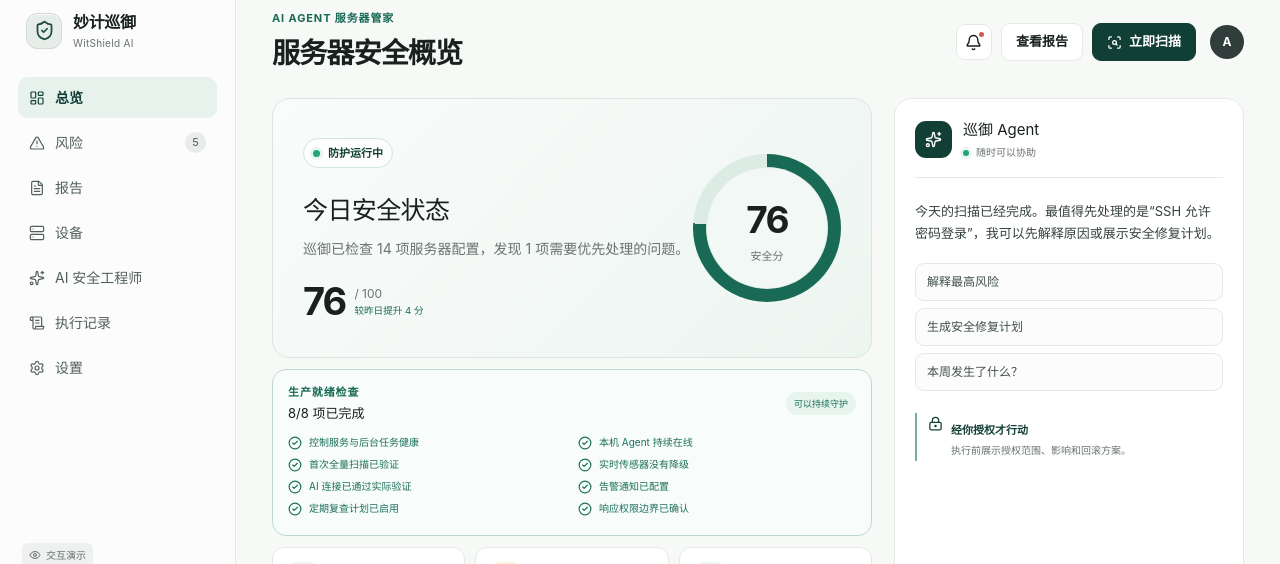
WitShieldApp › configures report delivery and sends a test without revealing stored secrets
Expected: the heading "服务器安全概览" is shown, [272, 32, 462, 74]
What coordinates should you click on to do the following:
click the button "设置"
I would click on:
 (118, 368)
Its box is [18, 347, 217, 388].
(page scrolled)
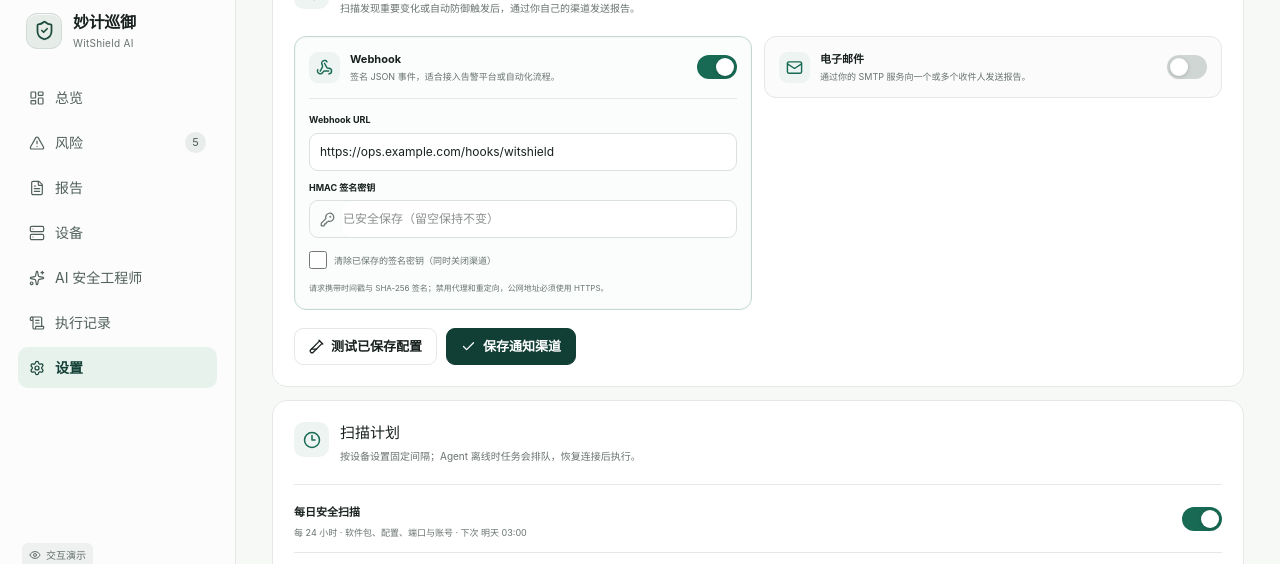
Expected: the field showing "https://ops.example.com/hooks/witshield" is shown, [309, 133, 737, 171]
What coordinates should you click on to do the following:
click the button "测试已保存配置"
I would click on:
 (366, 347)
Its box is [294, 328, 437, 365].
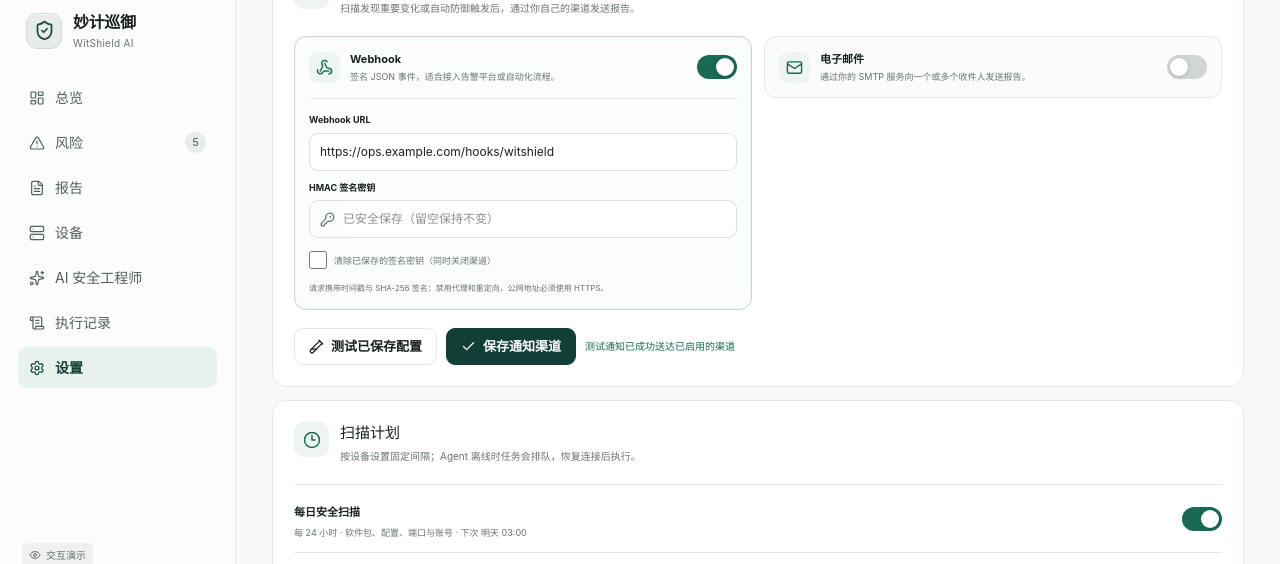
Expected: the text "测试通知已成功送达已启用的渠道" is shown, [585, 339, 735, 354]
